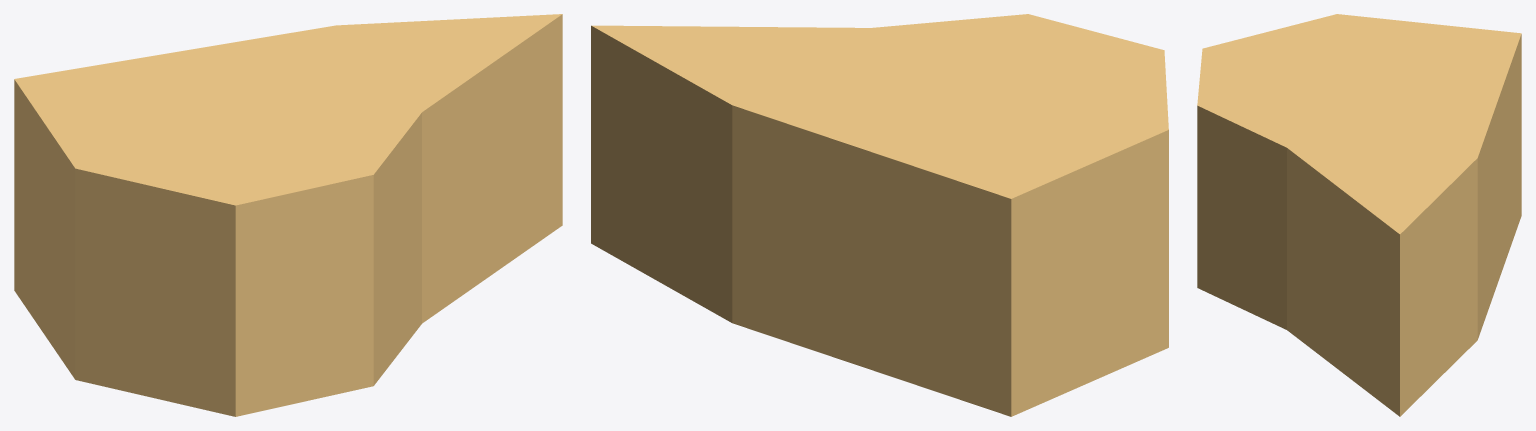
Rendered from flat_rock_14.fbx.
3 renders of one model, left to right at view 1: azimuth 30°, elevation 25°; view 2: azimuth 150°, elevation 25°; view 3: azimuth 270°, elevation 25°, orthographic. The views are drawn at different scales.
Parts seen in each view (by area): view 1: flat_rock_14; view 2: flat_rock_14; view 3: flat_rock_14.
Part boxes in pixels (<box>): flat_rock_14: <box>14,14,562,416</box>; flat_rock_14: <box>591,14,1168,416</box>; flat_rock_14: <box>1197,14,1521,416</box>.
Bounding box in the file's own units: 53.34 × 20.57 × 33.15.
